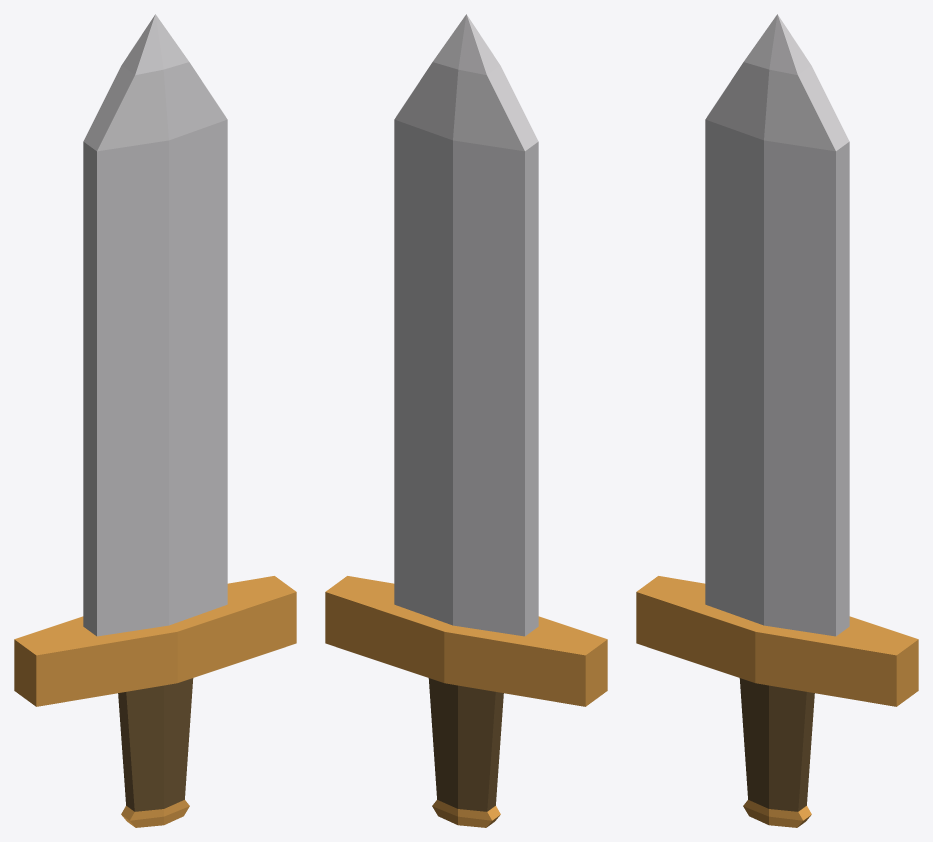
The model's file is sword.fbx.
3 renders of one model, left to right at view 1: azimuth 30°, elevation 25°; view 2: azimuth 150°, elevation 25°; view 3: azimuth 330°, elevation 25°, orthographic.
Visible parts, largest first — view 1: Cylinder; view 2: Cylinder; view 3: Cylinder.
Part boxes in pixels (x1=…): Cylinder: x1=14, y1=14, x2=296, y2=827; Cylinder: x1=325, y1=14, x2=607, y2=827; Cylinder: x1=636, y1=14, x2=918, y2=827.
Size of the model in its own units: 65.55 by 194 by 19.24.
